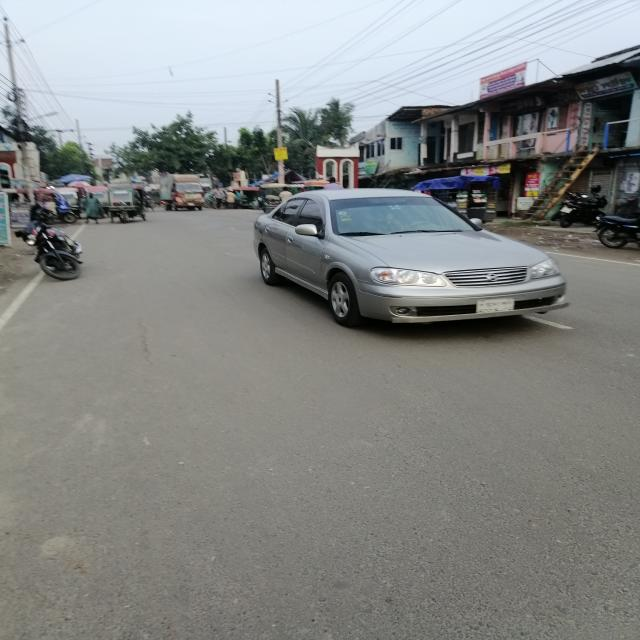Car: (245, 188, 576, 350)
Motorbike: (11, 207, 86, 289)
